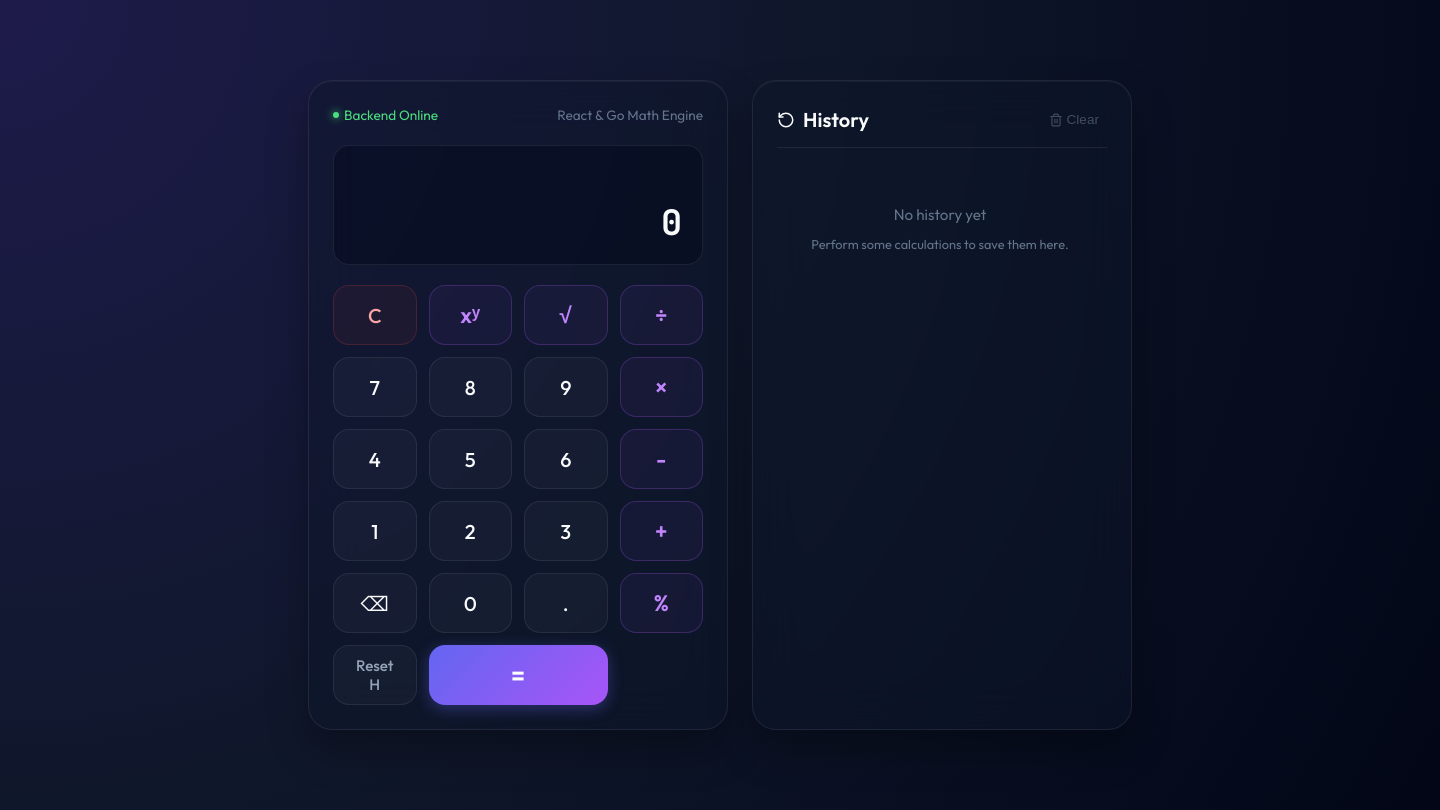
Scenario: Calculator Component › submits calculation to the API and renders the result upon clicking equals (=)
The image size is (1440, 810).
Click the button "1" at (375, 531), box 333,501 -> 416,561
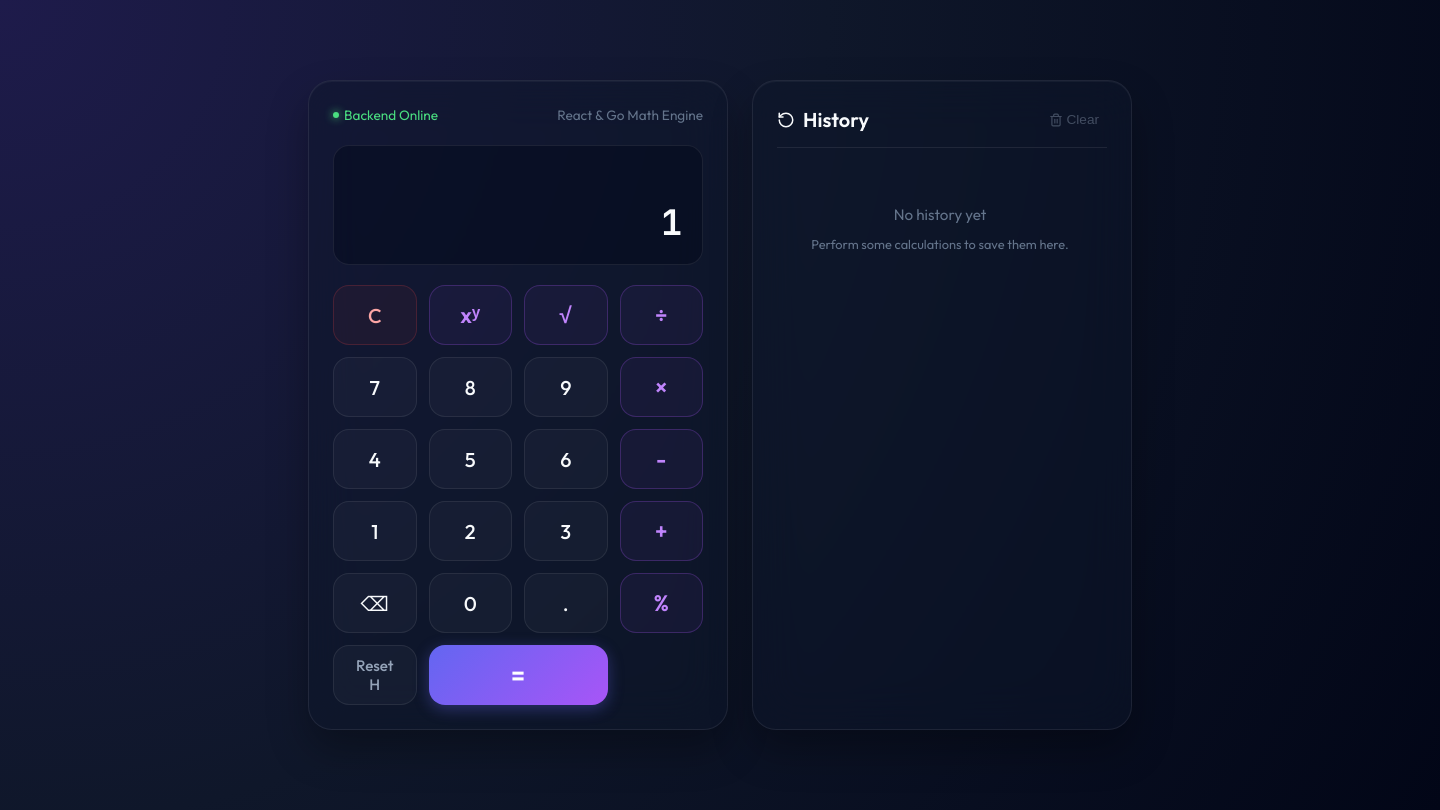
Click the button "2" at (470, 531), box 428,501 -> 512,561
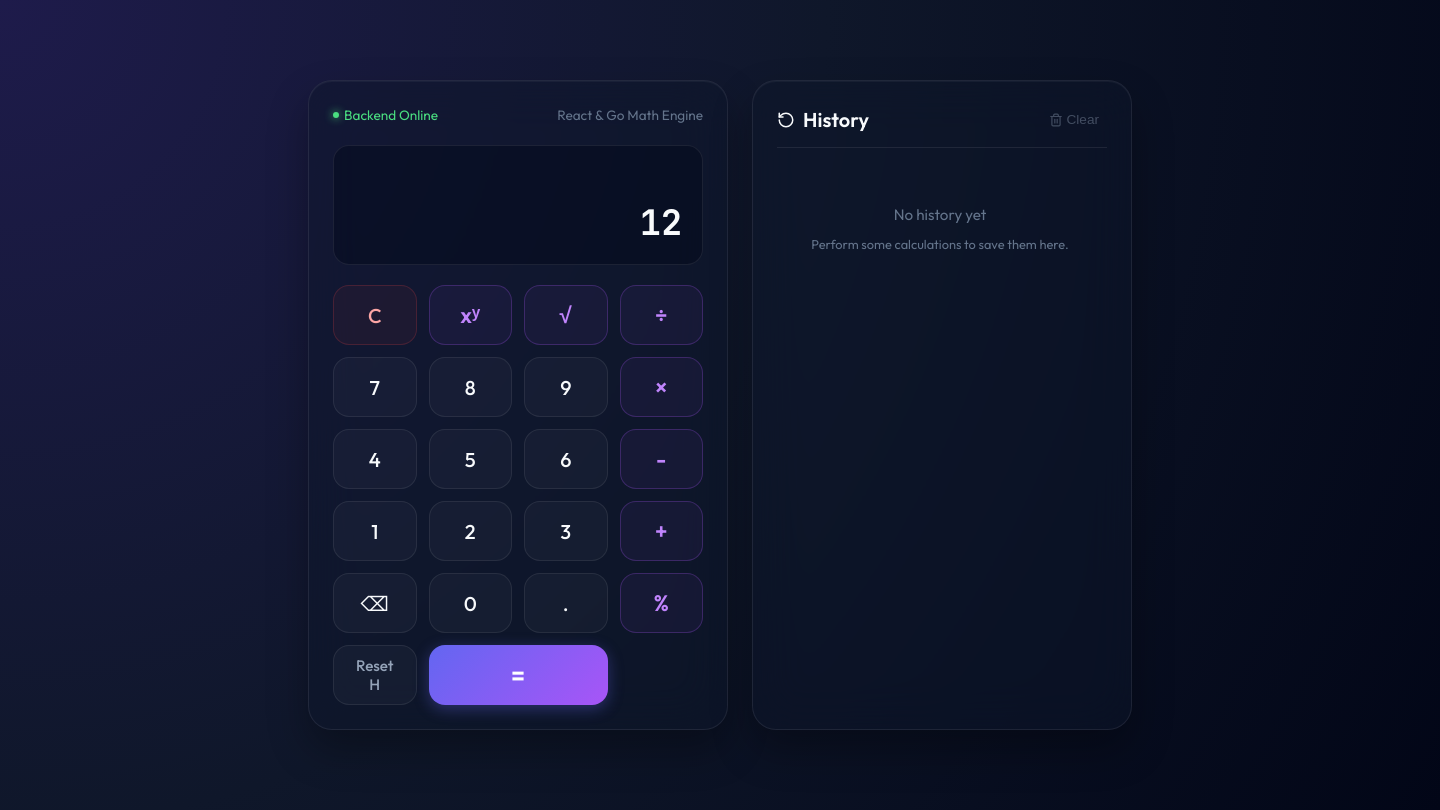
# Click operator "+"
Click the button "+" at (661, 531), box 620,501 -> 703,561
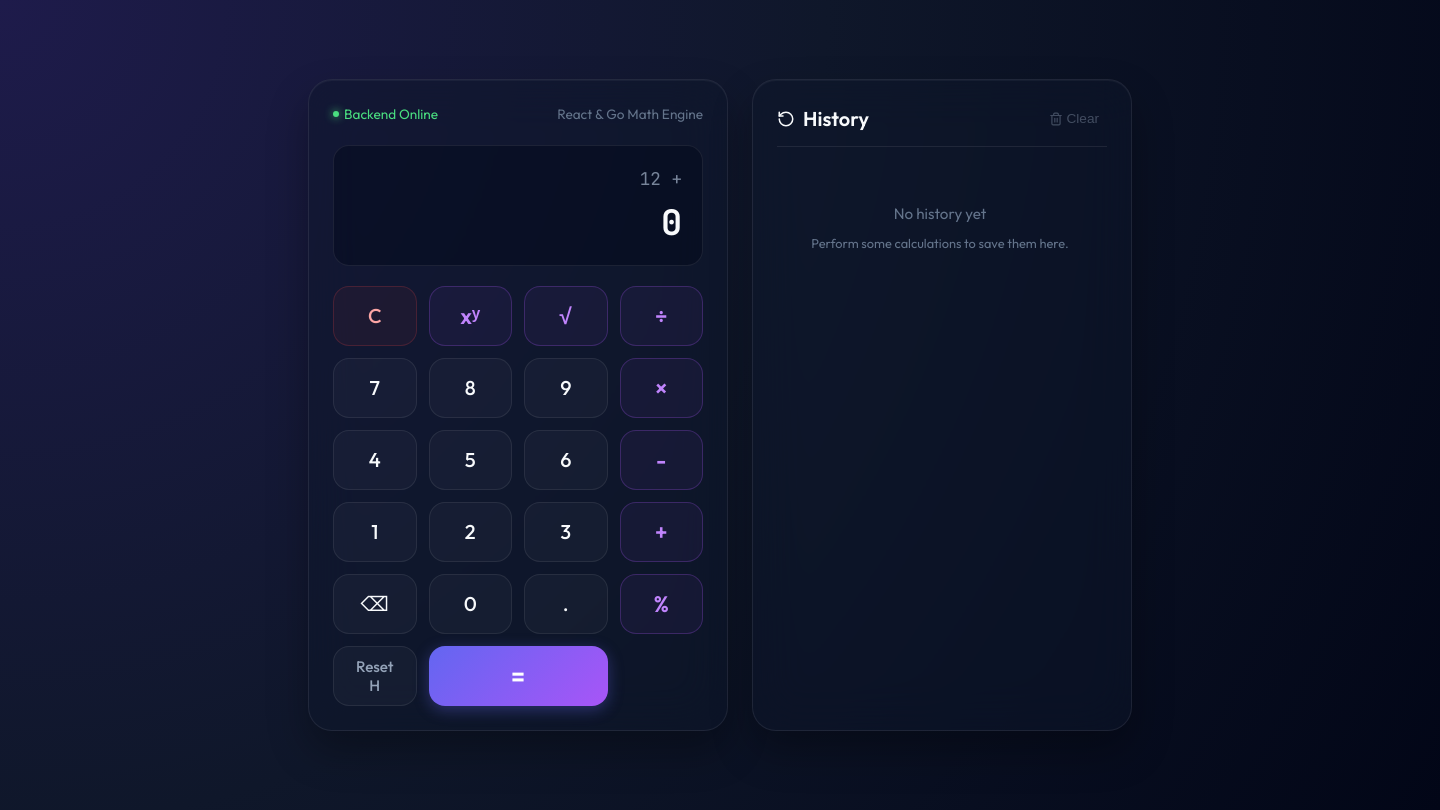
Click the button "3" at (566, 532), box 524,502 -> 608,562
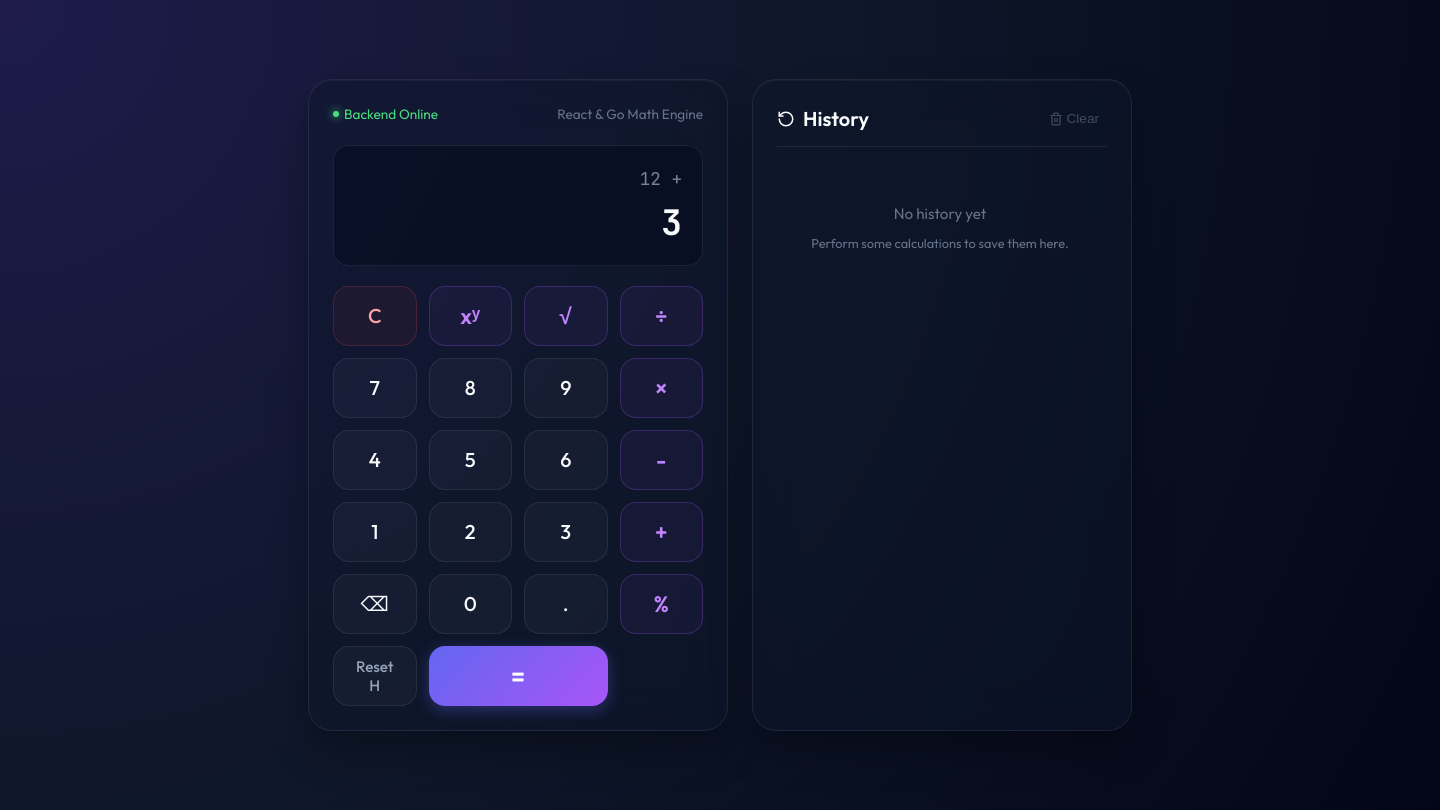
Click the button "0" at (470, 604), box 428,574 -> 512,634
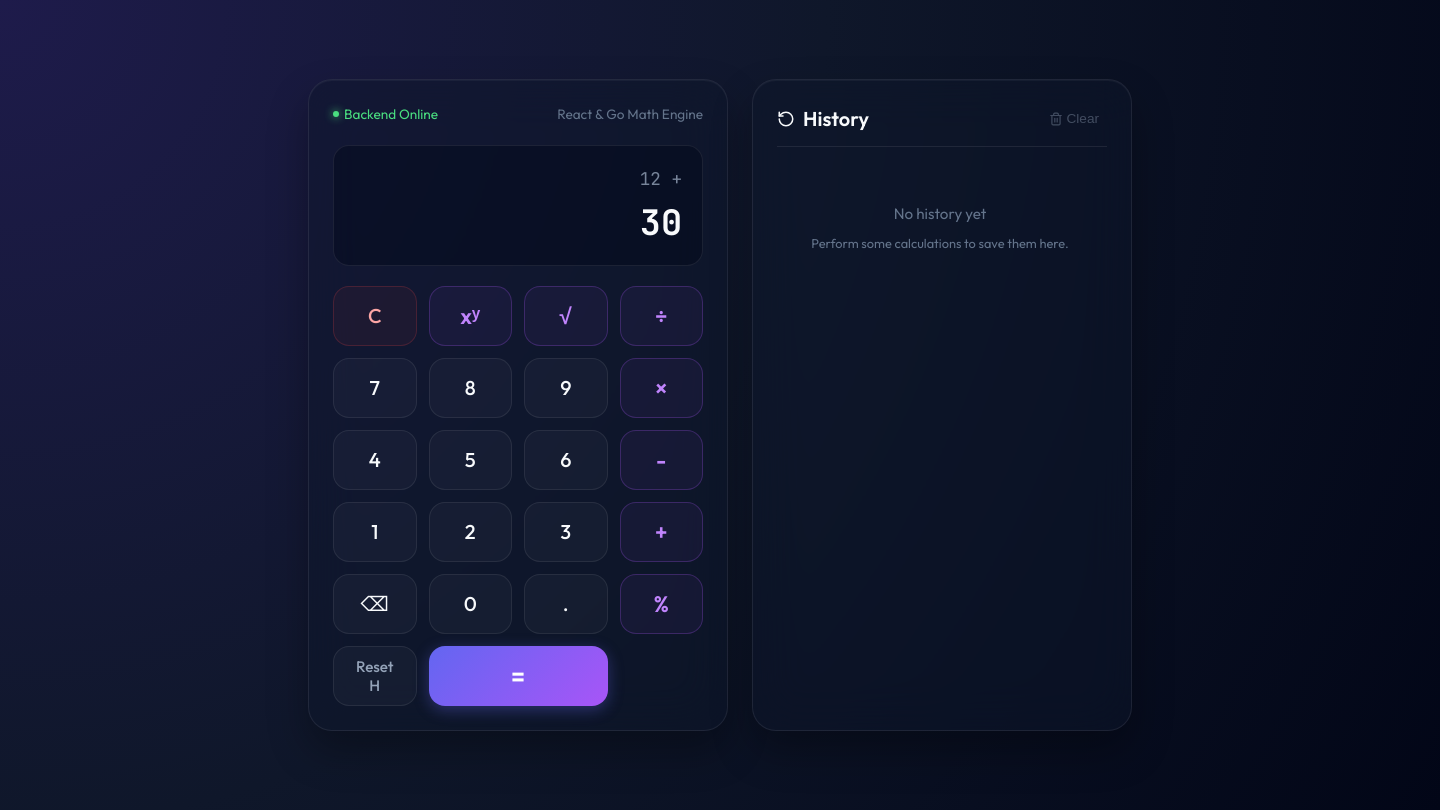
Click the button "=" at (518, 676), box 428,646 -> 608,706
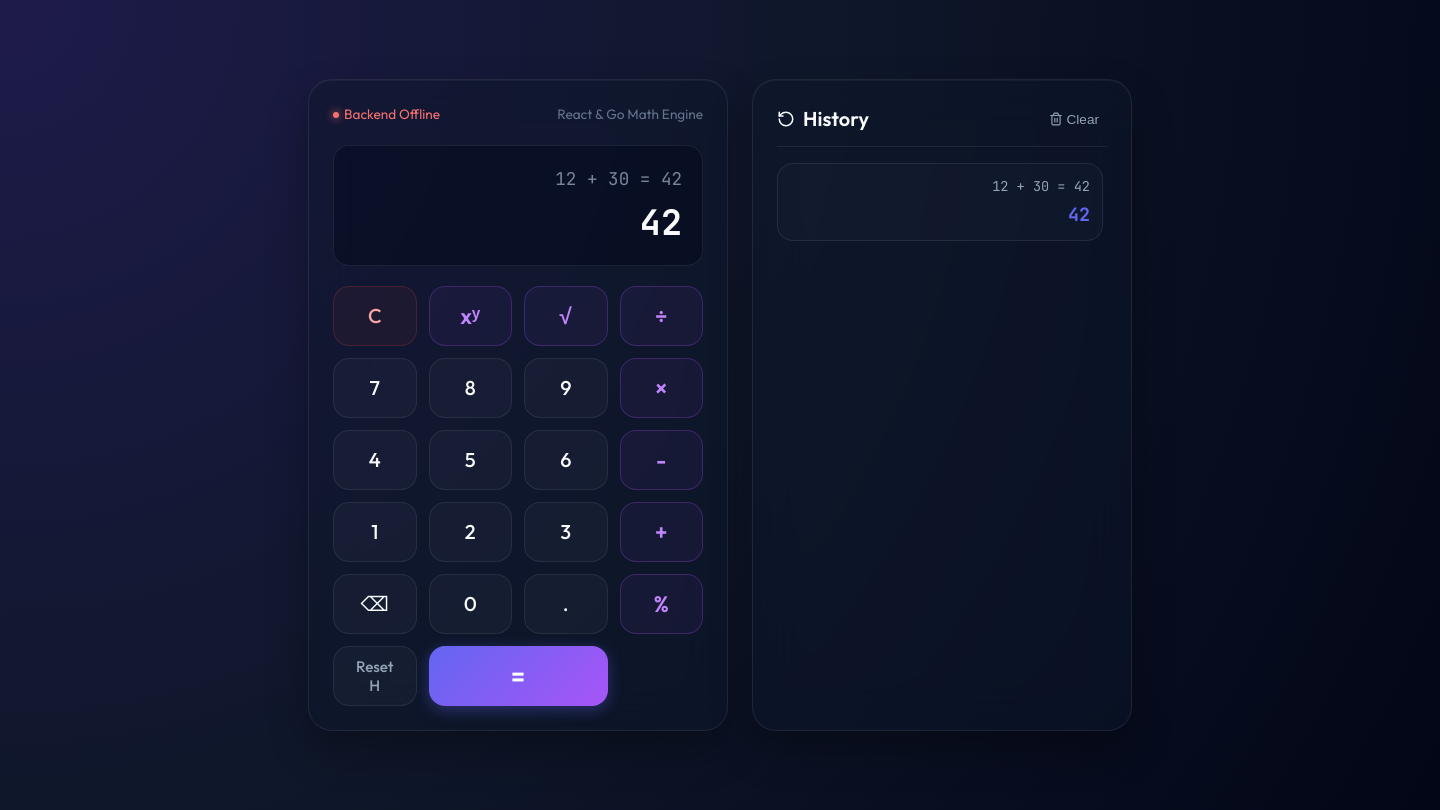
Expected: the text "42" below "Backend Offline" is shown, 640,199 -> 682,246
Expected: the text "12 + 30 = 42" below "History" is shown, 992,178 -> 1090,196
